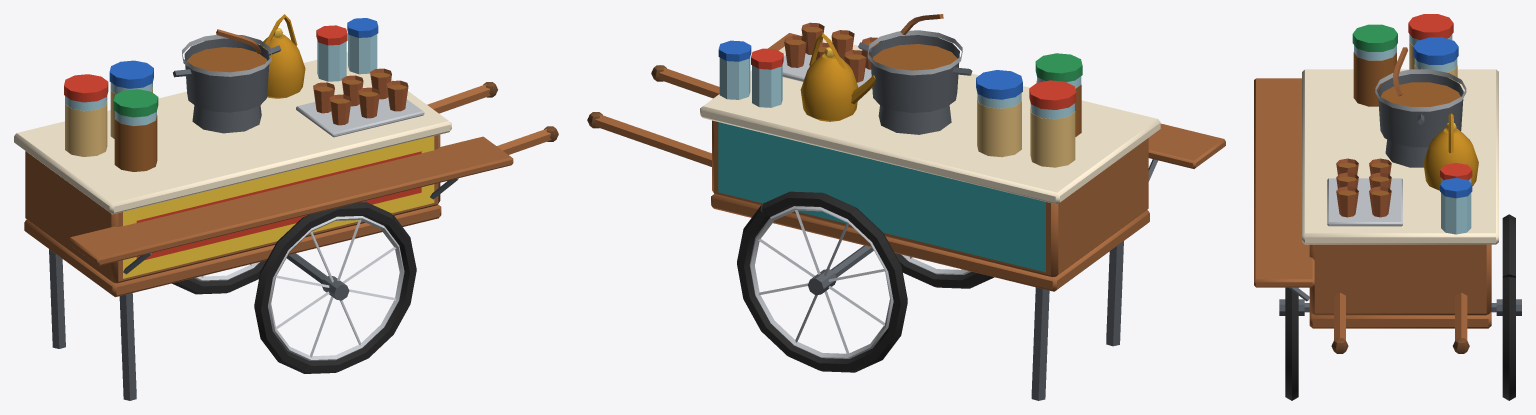
Rendered from growth_cart.glb.
The picture shows the model from 3 angles, left to right: view 1: azimuth 30°, elevation 25°; view 2: azimuth 150°, elevation 25°; view 3: azimuth 270°, elevation 25°; orthographic projection. The views are drawn at different scales.
Visible parts, largest first — view 1: growth_cart; view 2: growth_cart; view 3: growth_cart.
Part boxes in pixels (left/top/right/bottom): growth_cart: left=14, top=14, right=558, bottom=400; growth_cart: left=587, top=14, right=1225, bottom=400; growth_cart: left=1254, top=14, right=1521, bottom=400.
Size of the model in its own units: 2.29 by 1.38 by 1.06.
1 material, 1 textured.
